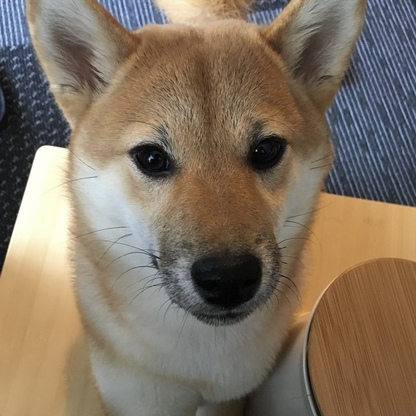shiba: (19, 1, 376, 416)
